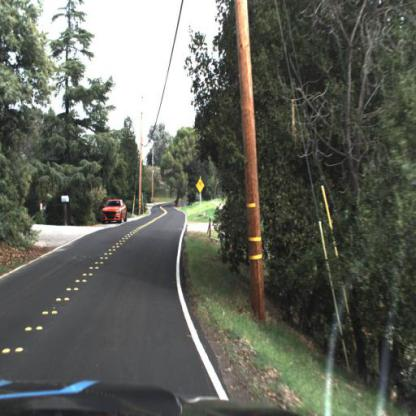car: (100, 197, 131, 228)
